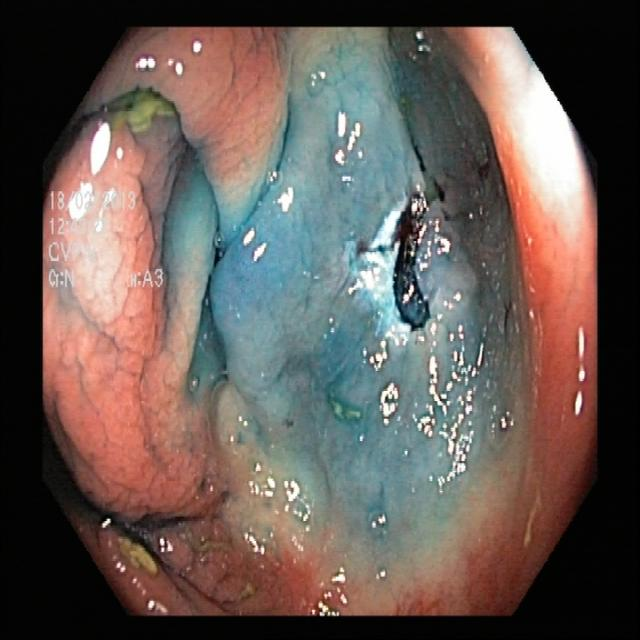dyed-resection-margins: (28, 65, 245, 530), (342, 159, 489, 345)
